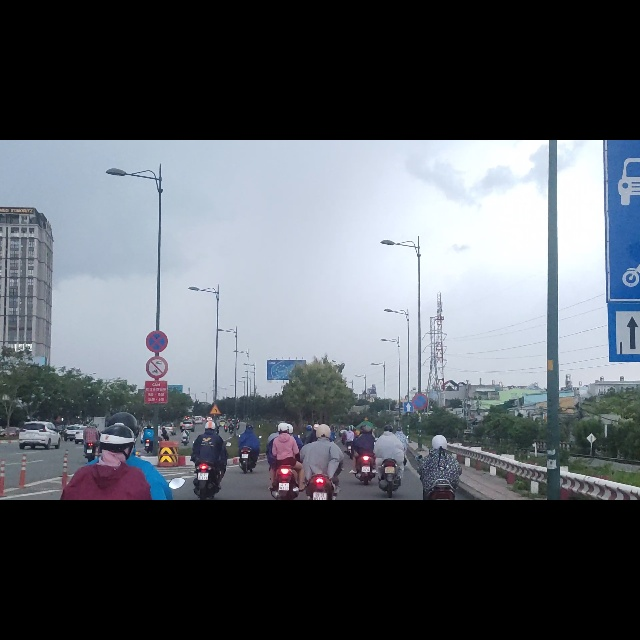bien_chi_dan: (146, 383, 168, 424), (145, 338, 168, 377), (412, 450, 428, 479), (209, 469, 222, 488), (403, 465, 412, 483)
